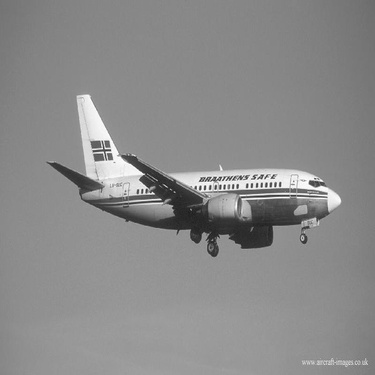airplane: (47, 83, 346, 260)
